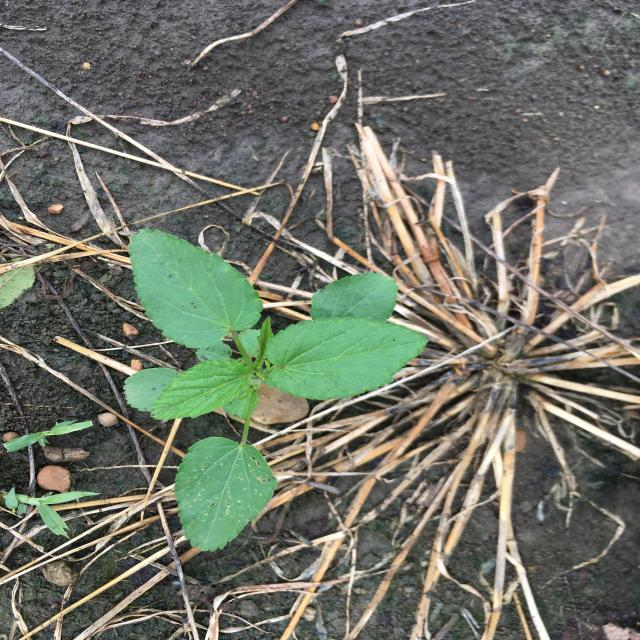PricklySida: (124, 228, 429, 552)
